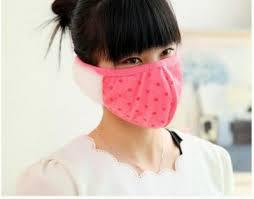OK: (96, 36, 188, 128)
